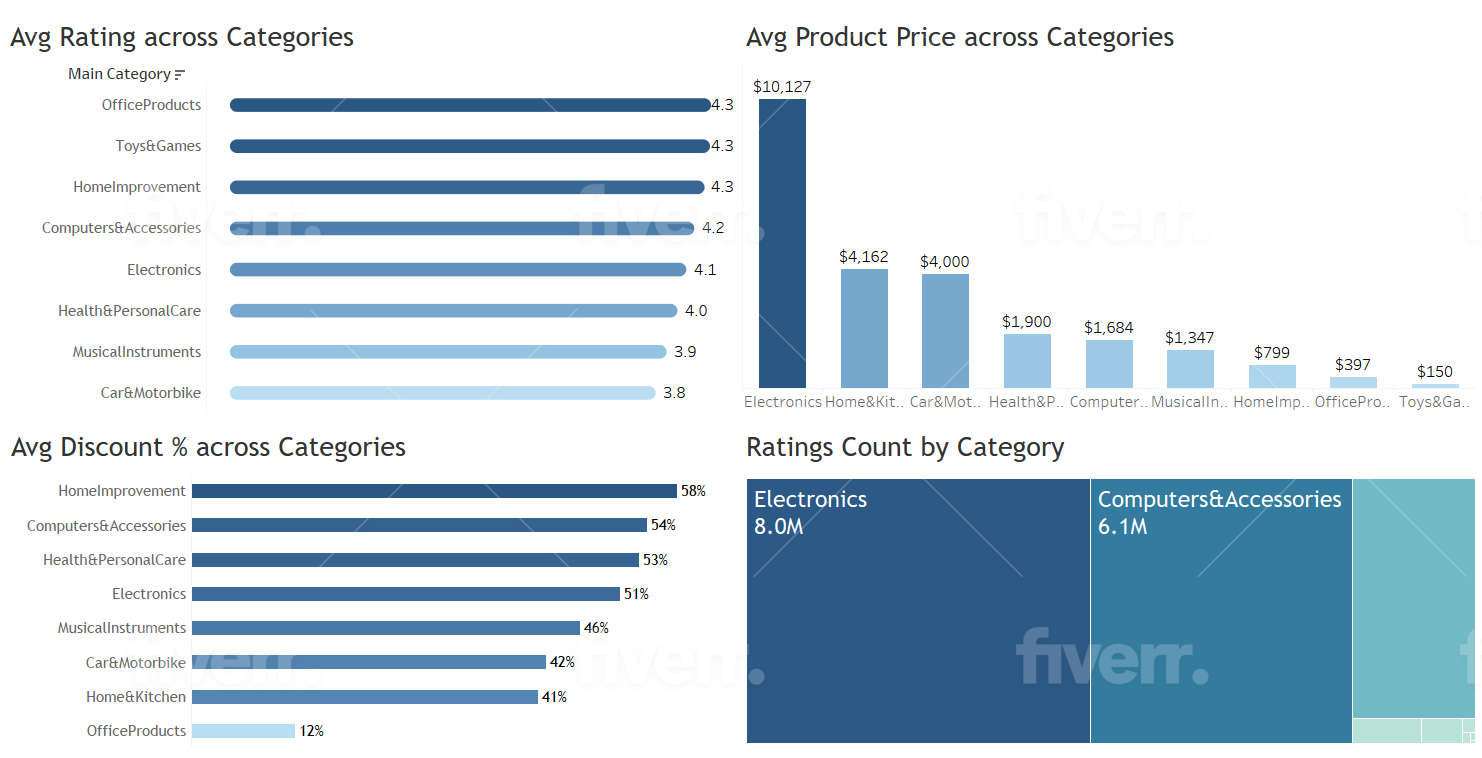

What the dashboard file says about the page in this screenshot:
{"tool":"tableau","page":{"name":"Dashboard","canvas":[1500,840],"ordinal":0},"visuals":[{"type":"title","box":[8,8,1484,38]},{"type":"worksheet","title":"Avg Rating across Categories","mark":"Line","rows":["Main Category"],"box":[14,69,736,404]},{"type":"worksheet","title":"Avg Product Price across Categories","mark":"Automatic","rows":["Actual_Price"],"cols":["Main Category"],"box":[750,69,742,404]},{"type":"worksheet","title":"Avg Discount % across Categories","mark":"Automatic","rows":["Main Category"],"cols":["Discount_Percentage"],"box":[15,479,735,329]},{"type":"worksheet","title":"Ratings Count by Category","mark":"Automatic","box":[750,479,745,329]}]}

Visuals, with their boxes on the page's 1500x840 design canvas (x1, y1, x2, y2). These are canvas units, not pixel positions in the 1482x758 screenshot, which may show the page scaled, cropped or inside an application window:
title: bbox=(8, 8, 1492, 46)
"Avg Rating across Categories" worksheet (Line marks): bbox=(14, 69, 750, 473)
"Avg Product Price across Categories" worksheet: bbox=(750, 69, 1492, 473)
"Avg Discount % across Categories" worksheet: bbox=(15, 479, 750, 808)
"Ratings Count by Category" worksheet: bbox=(750, 479, 1495, 808)
